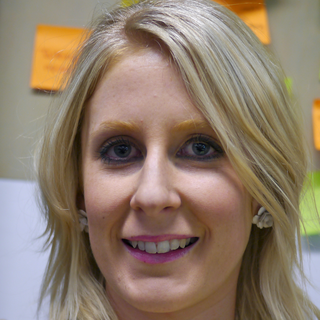eye: (93, 135, 149, 167), (172, 134, 228, 165)
